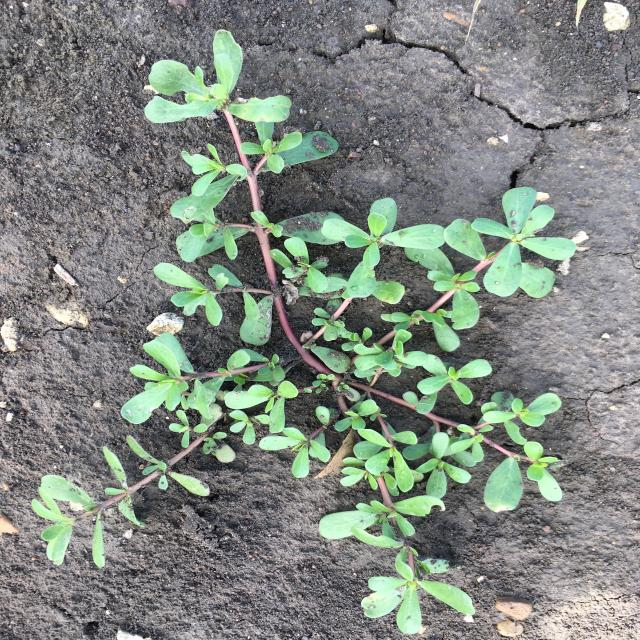Purslane: (31, 29, 577, 634)
